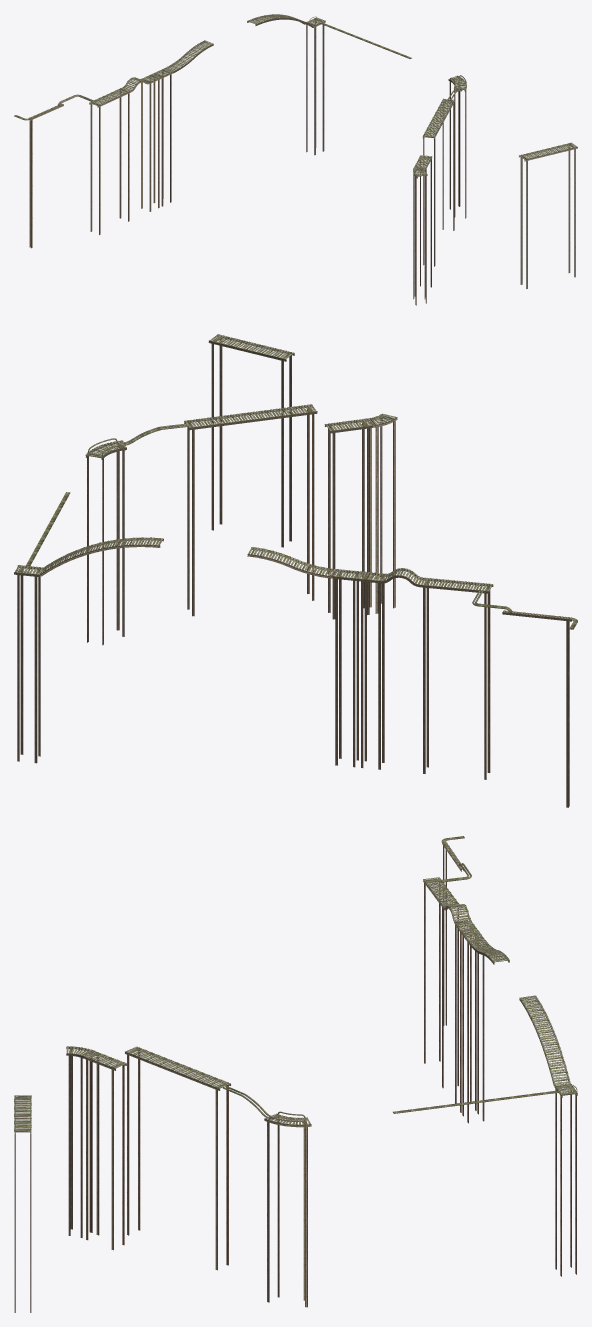
3 renders of one model, top to bottom at view 1: azimuth 30°, elevation 25°; view 2: azimuth 150°, elevation 25°; view 3: azimuth 270°, elevation 25°, orthographic. The views are drawn at different scales.
Visible parts, largest first — view 1: Ramp.011, ramp.017, Ramp.021, Ramp.024, Ramp.026, Ramp.013, Ramp.009, Ramp.027; view 2: Ramp.024, Ramp.011, Ramp.026, ramp.017, Ramp.021, Ramp.009, Ramp.013, Ramp.006, Ramp.027; view 3: Ramp.024, Ramp.026, Ramp.011, Ramp.013, ramp.017, Ramp.009, Ramp.006, Ramp.021, Ramp.027.
Boxes of the visible parts, <box> form: Ramp.011: <box>141,68,173,211</box>; ramp.017: <box>89,77,149,234</box>; Ramp.021: <box>519,142,577,288</box>; Ramp.024: <box>413,155,432,305</box>; Ramp.026: <box>422,98,454,266</box>; Ramp.013: <box>448,75,466,218</box>; Ramp.009: <box>305,17,325,155</box>; Ramp.027: <box>28,103,63,248</box>; Ramp.024: <box>324,413,397,619</box>; Ramp.011: <box>332,569,384,769</box>; Ramp.026: <box>184,404,317,616</box>; ramp.017: <box>380,568,493,779</box>; Ramp.021: <box>208,334,294,547</box>; Ramp.009: <box>14,565,43,763</box>; Ramp.013: <box>85,440,126,645</box>; Ramp.006: <box>40,537,163,576</box>; Ramp.027: <box>502,610,572,807</box>; Ramp.024: <box>66,1046,126,1250</box>; Ramp.026: <box>125,1046,230,1270</box>; Ramp.011: <box>455,920,484,1123</box>; Ramp.013: <box>264,1113,311,1307</box>; ramp.017: <box>423,877,471,1088</box>; Ramp.009: <box>554,1083,577,1276</box>; Ramp.006: <box>519,995,570,1085</box>; Ramp.021: <box>14,1095,31,1312</box>; Ramp.027: <box>442,841,463,1025</box>.
Size of the model in its own units: 7594 by 2950 by 6521.
